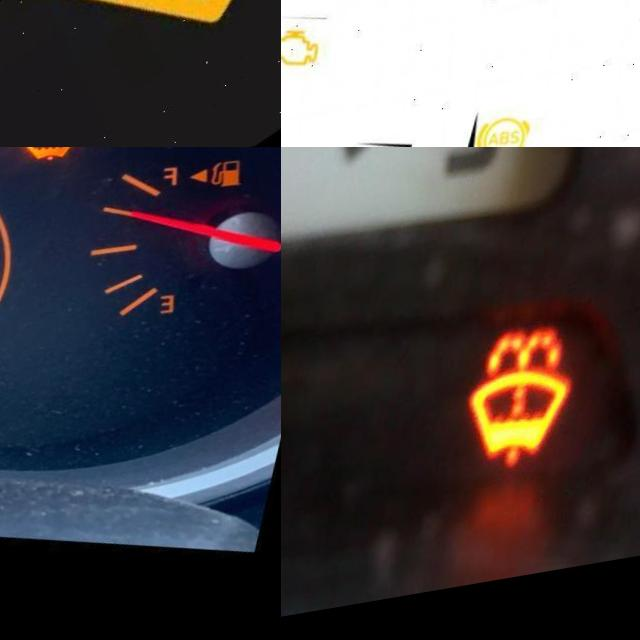Washer Fluid: (0, 0, 281, 65), (472, 342, 584, 493)
